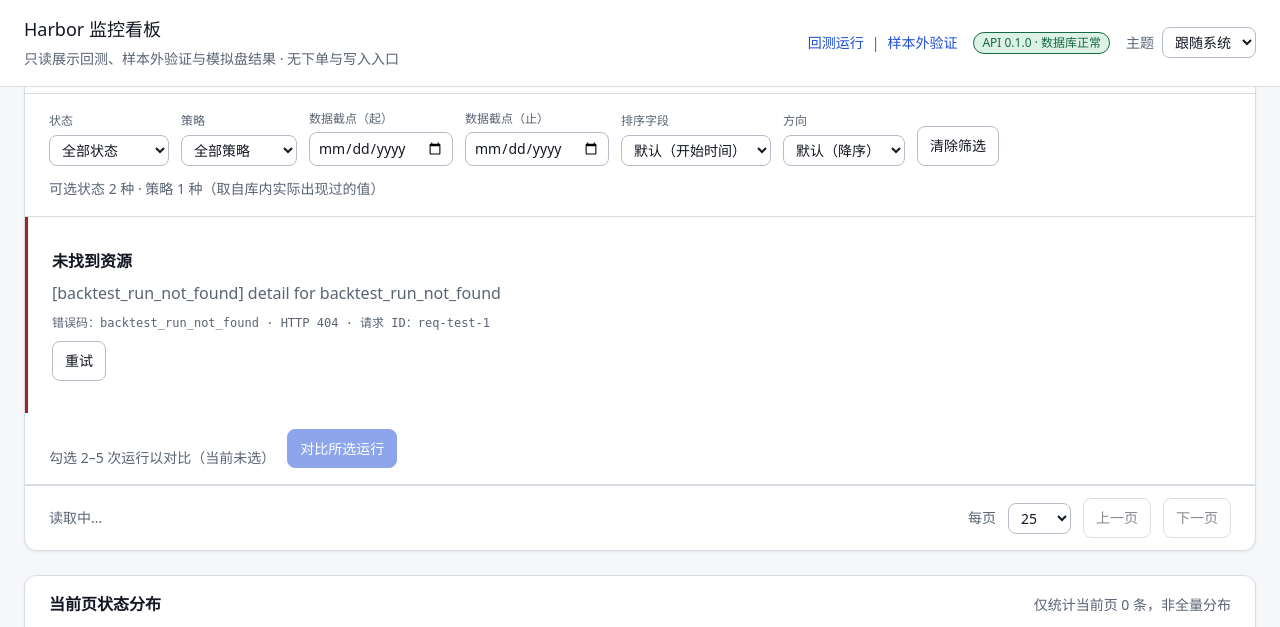
Scenario: dashboard smoke test › re-issues the request when the reader asks to retry
This screenshot has width=1280, height=627.
(page scrolled)
Check: the message with test id "error-state" is shown, box [25,217,1255,413]
What coordinates should you click on to do the following:
click the button "重试"
I would click on:
 (79, 361)
Its box is [52,341,106,381].
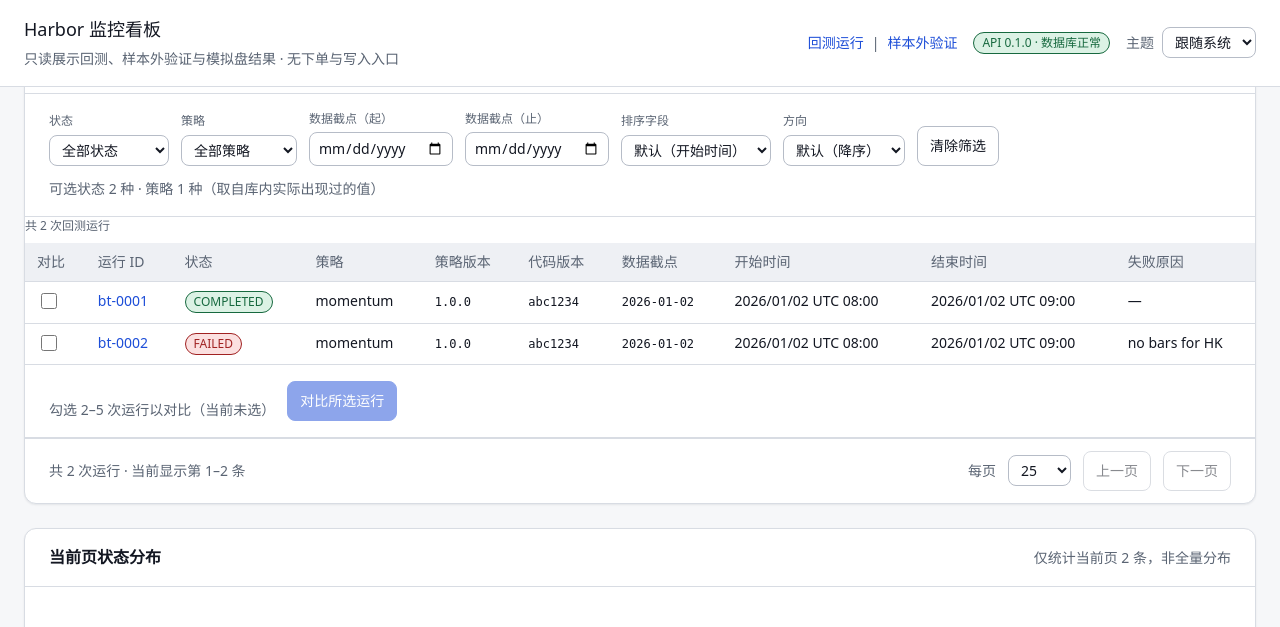
Check: the button "bt-0001" is shown, box [98,290,148,312]
